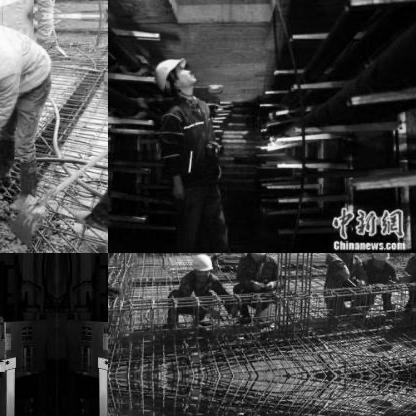Helmet: (150, 54, 194, 98), (188, 253, 214, 280), (369, 253, 390, 267), (338, 253, 362, 259)
